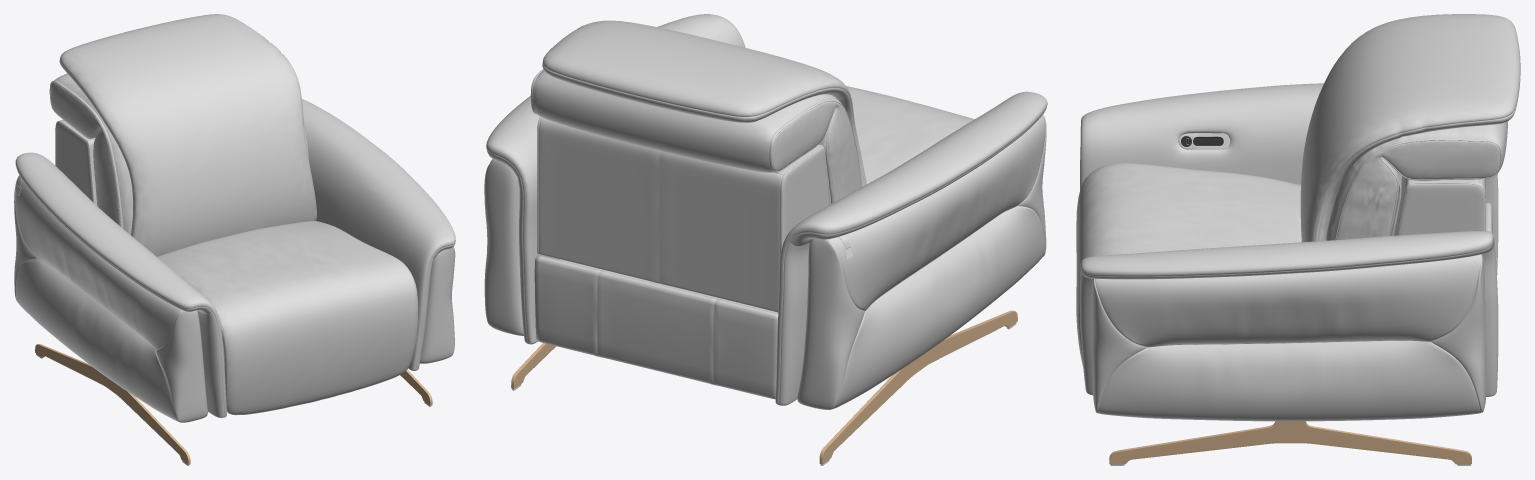
The model's file is SBH_HUDSON_1_Seater.glb.
3 views of the same model, side by side, from view 1: azimuth 30°, elevation 25°; view 2: azimuth 150°, elevation 25°; view 3: azimuth 270°, elevation 25° (orthographic). The views are drawn at different scales.
Parts seen in each view (by area): view 1: HUDSON_1_Seater; view 2: HUDSON_1_Seater; view 3: HUDSON_1_Seater.
Boxes of the visible parts, x1=… form: HUDSON_1_Seater: x1=14, y1=14, x2=455, y2=465; HUDSON_1_Seater: x1=484, y1=14, x2=1047, y2=465; HUDSON_1_Seater: x1=1076, y1=14, x2=1520, y2=465.
Size of the model in its own units: 1.06 by 0.9254 by 1.1.
